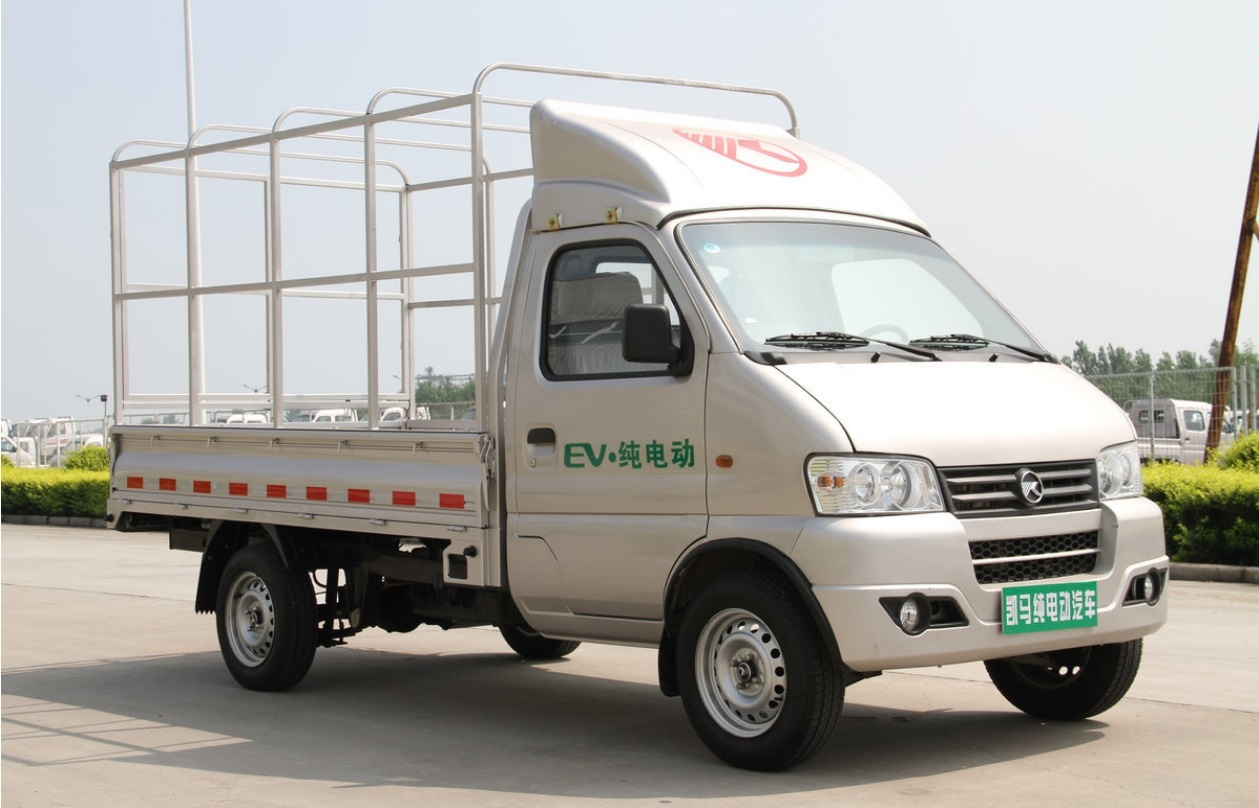truck: (103, 77, 1161, 732)
